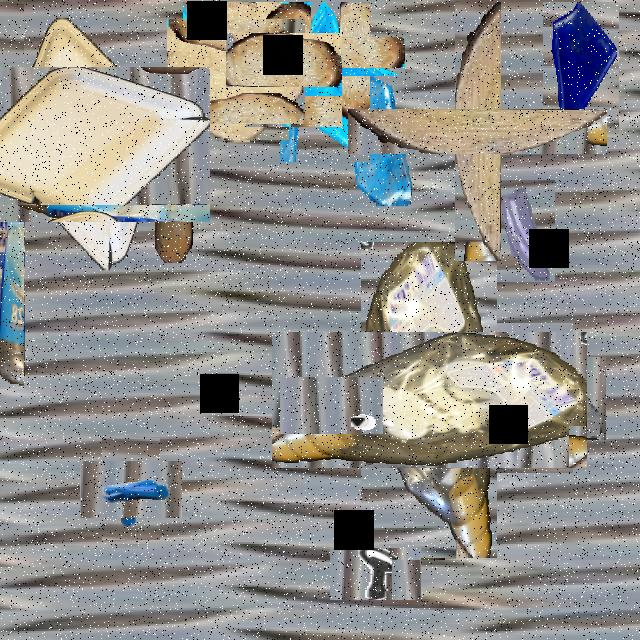glass: (262, 19, 388, 144), (472, 340, 590, 456), (543, 2, 619, 137), (342, 76, 414, 205), (497, 180, 555, 282)
metal: (292, 365, 372, 446), (91, 449, 171, 529), (339, 538, 411, 610), (0, 174, 13, 281)
plastic: (316, 287, 542, 513), (0, 41, 186, 246), (0, 92, 114, 298)
wood: (402, 55, 554, 208), (175, 10, 297, 132), (241, 18, 327, 103), (155, 196, 193, 263)
